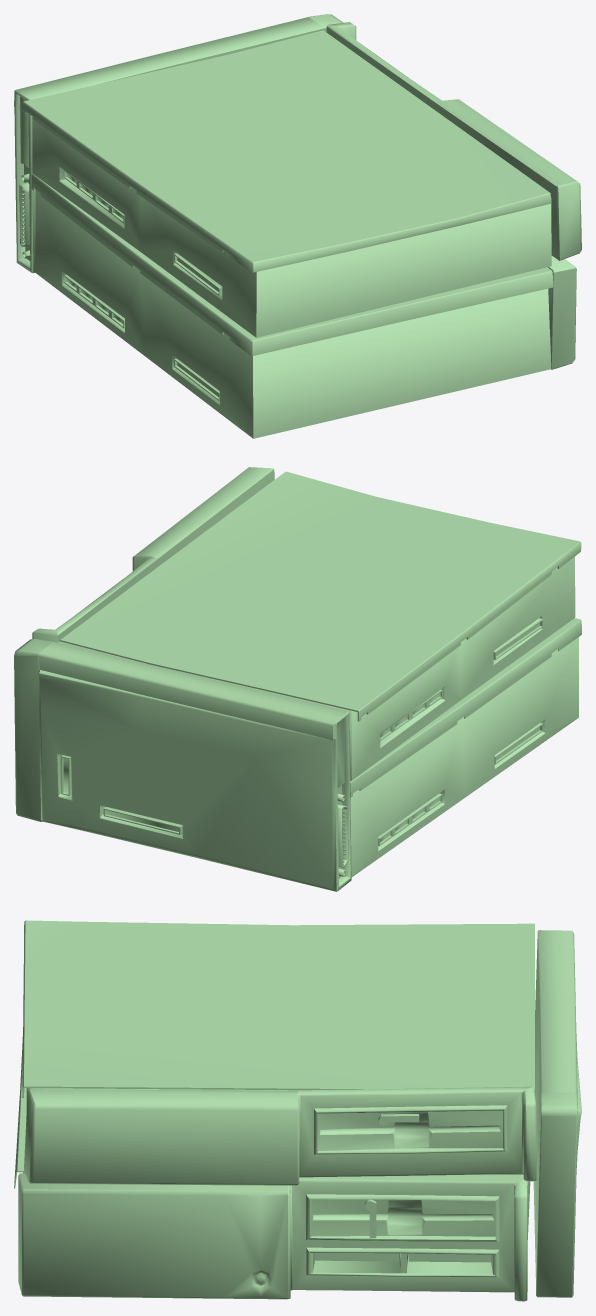
Rendered from pccomputer1.fbx.
The picture shows the model from 3 angles, top to bottom: view 1: azimuth 30°, elevation 25°; view 2: azimuth 150°, elevation 25°; view 3: azimuth 270°, elevation 25°; orthographic projection. The views are drawn at different scales.
Visible parts, largest first — view 1: mex_computer_80s_00; view 2: mex_computer_80s_00; view 3: mex_computer_80s_00.
Part boxes in pixels (x1=…): mex_computer_80s_00: x1=14, y1=14, x2=581, y2=438; mex_computer_80s_00: x1=14, y1=467, x2=581, y2=891; mex_computer_80s_00: x1=14, y1=920, x2=581, y2=1301.
Bounding box in the file's own units: 59.68 × 30.24 × 77.35.
